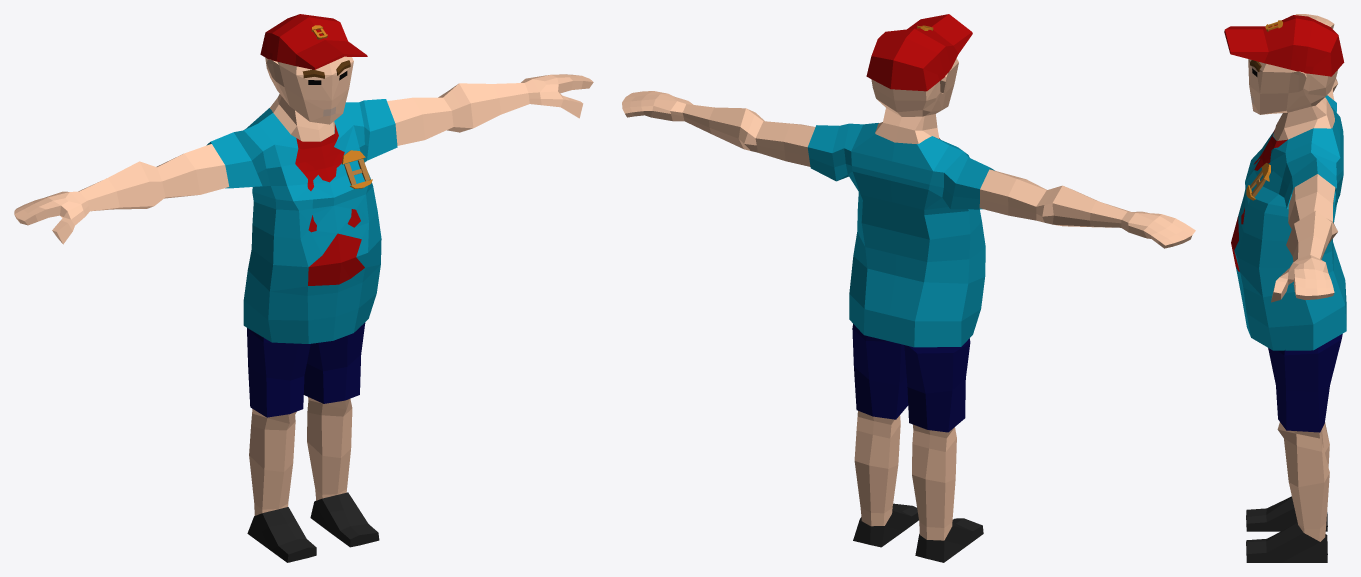
File: Gordo_Final.fbx
3 renders of one model, left to right at view 1: azimuth 30°, elevation 25°; view 2: azimuth 150°, elevation 25°; view 3: azimuth 270°, elevation 25°, orthographic.
Visible parts, largest first — view 1: Cuerpo; view 2: Cuerpo; view 3: Cuerpo.
Boxes of the visible parts, x1,y1,x2,y2 form: Cuerpo: (14,14,593,562); Cuerpo: (622,14,1195,562); Cuerpo: (1224,14,1346,562).
Size of the model in its own units: 215 by 185 by 39.45.
